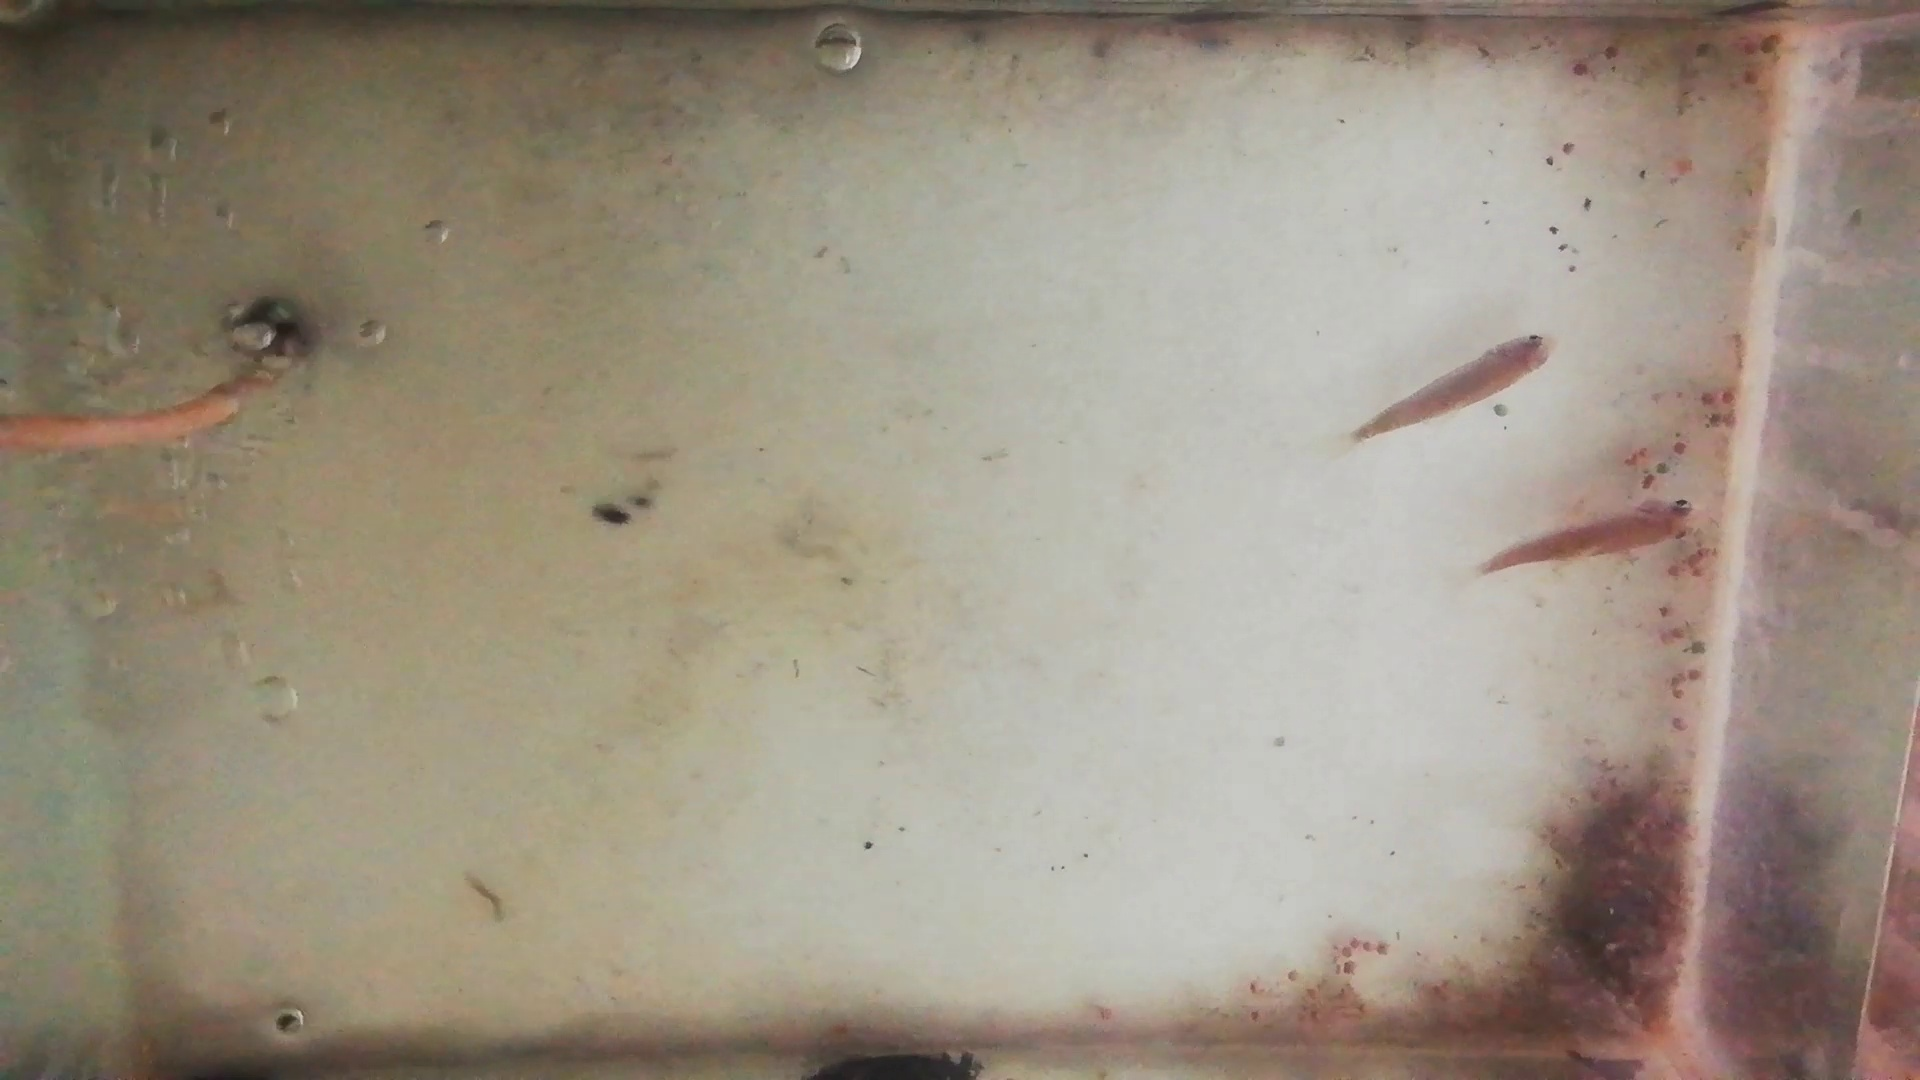fish: (1354, 334, 1557, 435), (1480, 498, 1702, 575)
